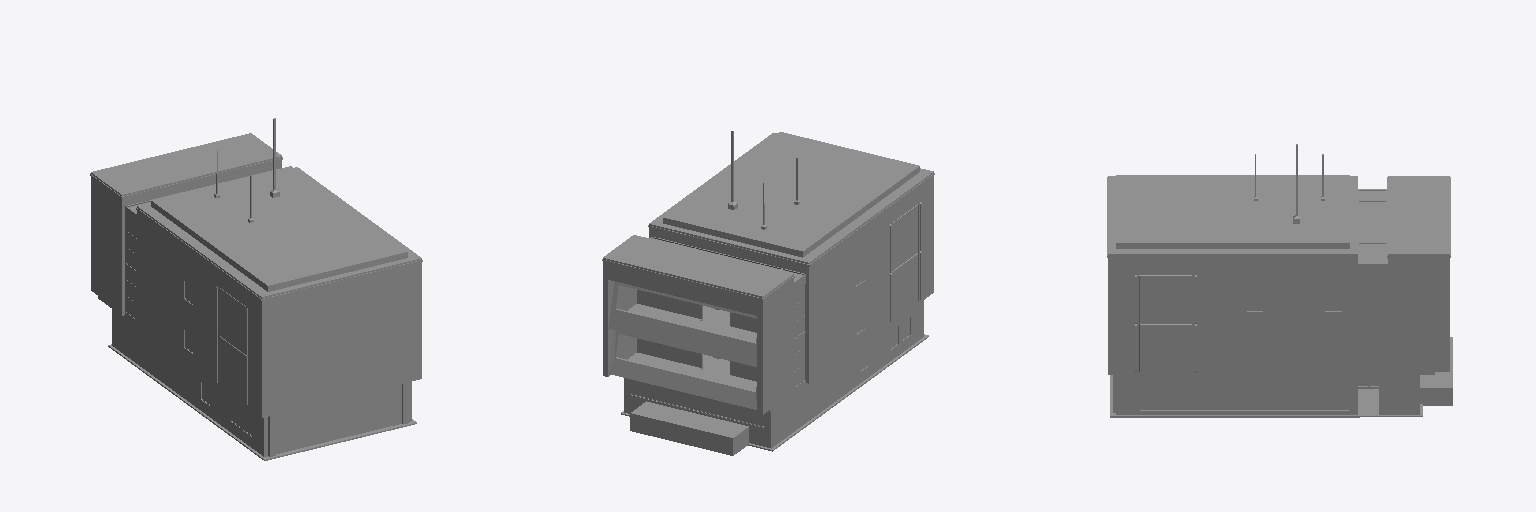
Rendered from Immeuble1.obj.
3 renders of one model, left to right at view 1: azimuth 30°, elevation 25°; view 2: azimuth 150°, elevation 25°; view 3: azimuth 270°, elevation 25°, orthographic.
Parts seen in each view (by area): view 1: Residential_; view 2: Residential_; view 3: Residential_.
Boxes of the visible parts, x1,y1,x2,y2 form: Residential_: [90, 118, 422, 460]; Residential_: [602, 131, 934, 455]; Residential_: [1107, 144, 1452, 417].
Bounding box in the file's own units: 1.26 × 1.84 × 2.31.